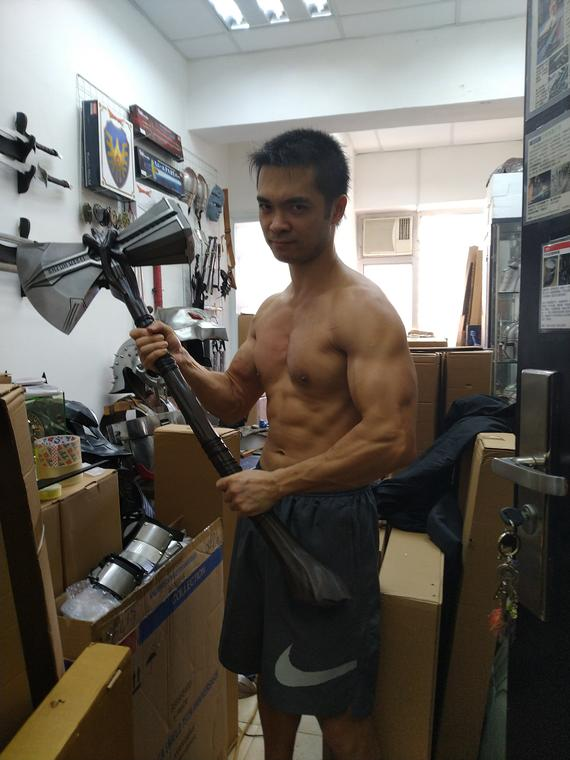THOR Hammer: (14, 168, 351, 618)
